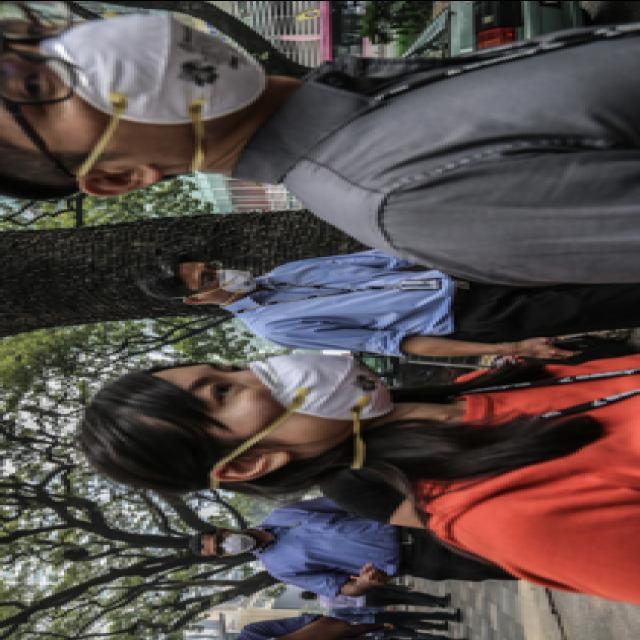mask: (0, 10, 265, 164), (183, 350, 390, 450), (192, 261, 259, 296), (204, 532, 256, 558)
